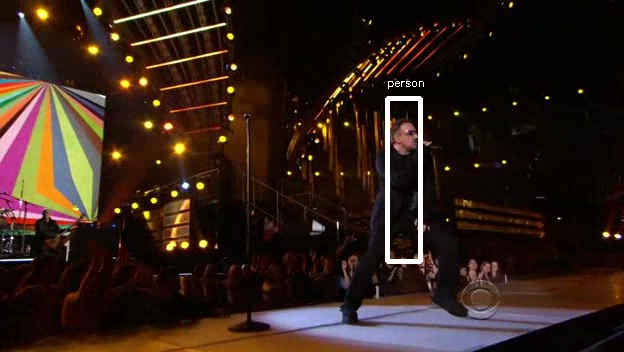person: (373, 123, 445, 253), (370, 123, 442, 253), (376, 123, 448, 253), (373, 120, 445, 250), (373, 126, 445, 256)
target_negative: (562, 7, 608, 315), (226, 148, 348, 199), (202, 149, 238, 280), (112, 254, 595, 259), (480, 53, 484, 121)
